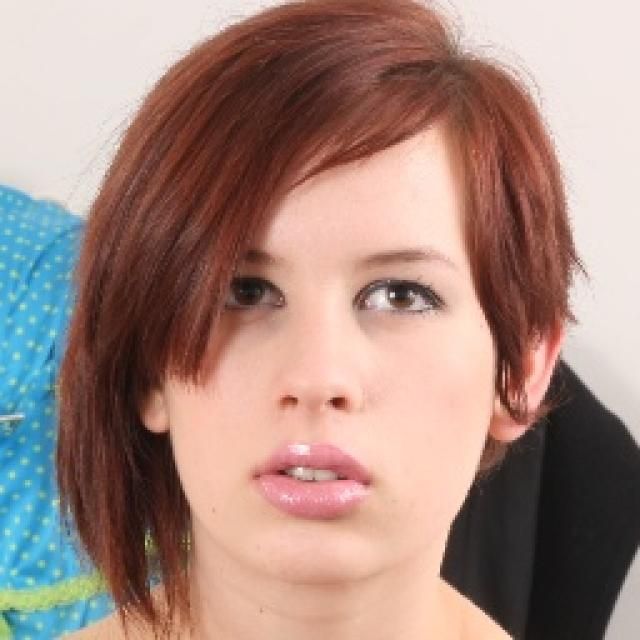earlobe: (487, 391, 532, 444), (134, 386, 172, 434)
eye: (205, 273, 285, 313), (357, 278, 441, 313)
wholeear: (487, 302, 566, 444)
